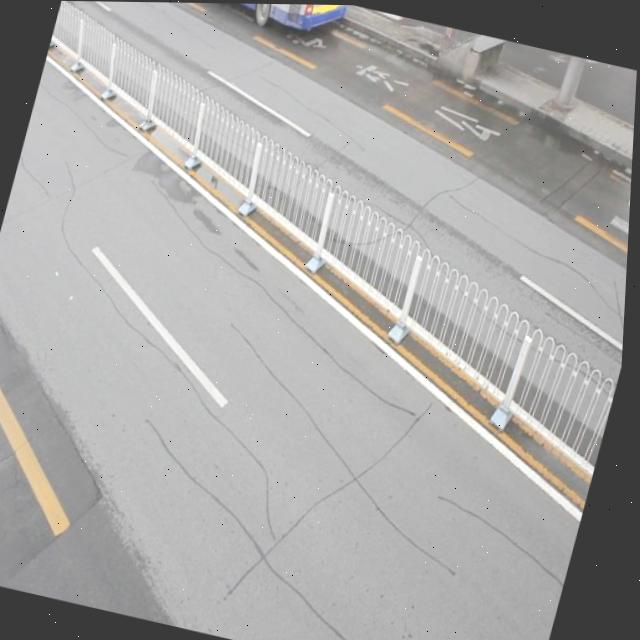van: (117, 1, 345, 48)
